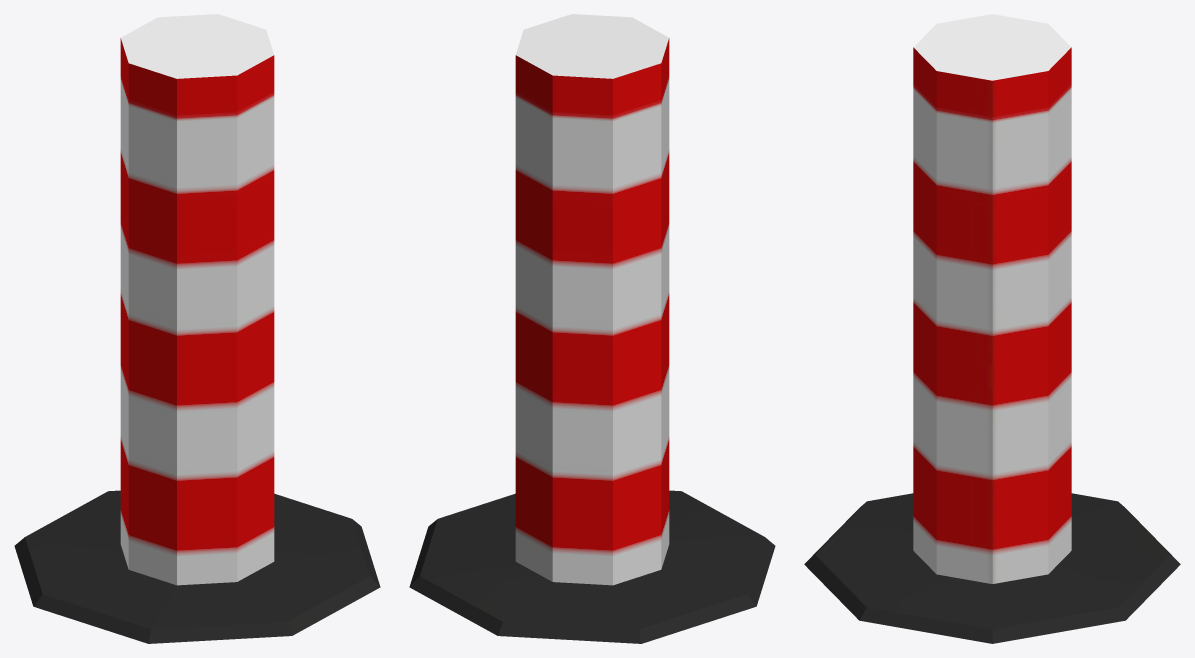
Rendered from road_side_block_1.fbx.
3 renders of one model, left to right at view 1: azimuth 30°, elevation 25°; view 2: azimuth 150°, elevation 25°; view 3: azimuth 270°, elevation 25°, orthographic.
Visible parts, largest first — view 1: cone_02.015; view 2: cone_02.015; view 3: cone_02.015.
Part boxes in pixels (x1,y1,x2,y2): cone_02.015: [14, 14, 380, 643]; cone_02.015: [409, 14, 775, 643]; cone_02.015: [804, 14, 1180, 643].
Size of the model in its own units: 27.06 by 40.97 by 27.06.
